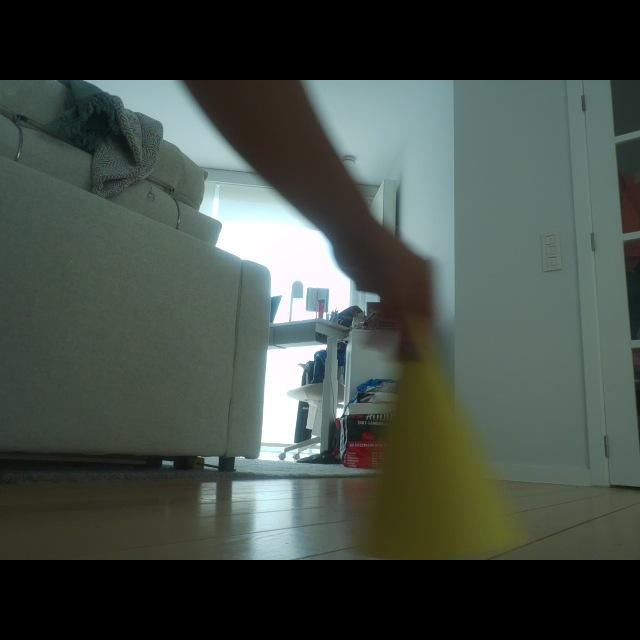bolya: (365, 346, 521, 559)
